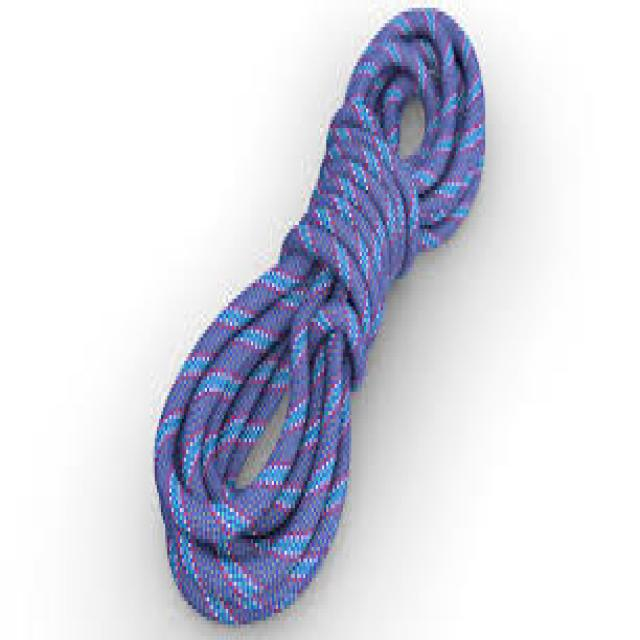rope: (153, 5, 486, 626)
